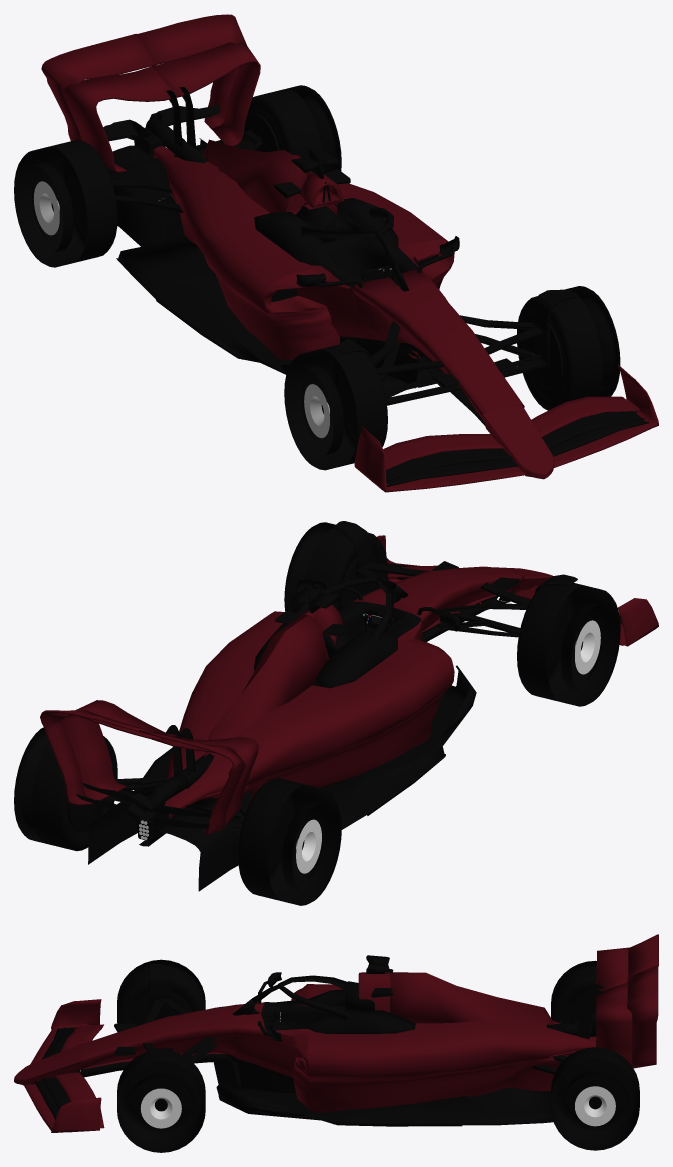
The picture shows the model from 3 angles, top to bottom: view 1: azimuth 30°, elevation 25°; view 2: azimuth 150°, elevation 25°; view 3: azimuth 270°, elevation 25°; orthographic projection. The views are drawn at different scales.
Parts seen in each view (by area): view 1: Object_74, Object_72, Object_44, Object_49, Object_23, Object_66, Object_65, Object_32, Object_63, Object_53, Object_62, Object_50 (+12 smaller); view 2: Object_74, Object_72, Object_44, Object_23, Object_53, Object_66, Object_49, Object_32, Object_69, Object_26, Object_65, Object_73 (+7 smaller); view 3: Object_72, Object_74, Object_23, Object_49, Object_44, Object_53, Object_66, Object_65, Object_69, Object_50, Object_62, Object_24 (+13 smaller).
Boxes of the visible parts, x1,y1,x2,y2 form: Object_74: [14, 85, 620, 470]; Object_72: [153, 146, 454, 360]; Object_44: [41, 14, 260, 172]; Object_49: [297, 269, 524, 421]; Object_23: [116, 235, 433, 392]; Object_66: [254, 198, 418, 291]; Object_65: [354, 364, 658, 492]; Object_32: [107, 145, 184, 246]; Object_63: [386, 411, 645, 486]; Object_53: [202, 139, 307, 213]; Object_62: [383, 396, 638, 469]; Object_50: [481, 405, 554, 479]; Object_74: [14, 522, 620, 905]; Object_72: [158, 611, 454, 818]; Object_44: [40, 700, 258, 835]; Object_23: [134, 665, 476, 829]; Object_53: [204, 614, 329, 756]; Object_66: [254, 577, 421, 688]; Object_49: [352, 566, 523, 640]; Object_32: [139, 797, 242, 891]; Object_69: [296, 620, 600, 873]; Object_26: [88, 784, 159, 864]; Object_65: [377, 535, 658, 646]; Object_73: [274, 586, 351, 637]; Object_72: [266, 984, 596, 1112]; Object_74: [117, 959, 639, 1152]; Object_23: [216, 1083, 553, 1126]; Object_49: [80, 1002, 307, 1077]; Object_44: [596, 934, 658, 1068]; Object_53: [390, 972, 554, 1026]; Object_66: [232, 975, 415, 1033]; Object_65: [24, 999, 101, 1132]; Object_69: [140, 1086, 615, 1128]; Object_50: [14, 1044, 81, 1085]; Object_62: [54, 1024, 104, 1128]; Object_24: [213, 1062, 295, 1093].
Bounding box in the file's own units: 1.78 × 1.08 × 4.46.
